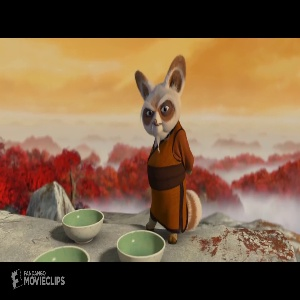shifu: (124, 50, 206, 242)
